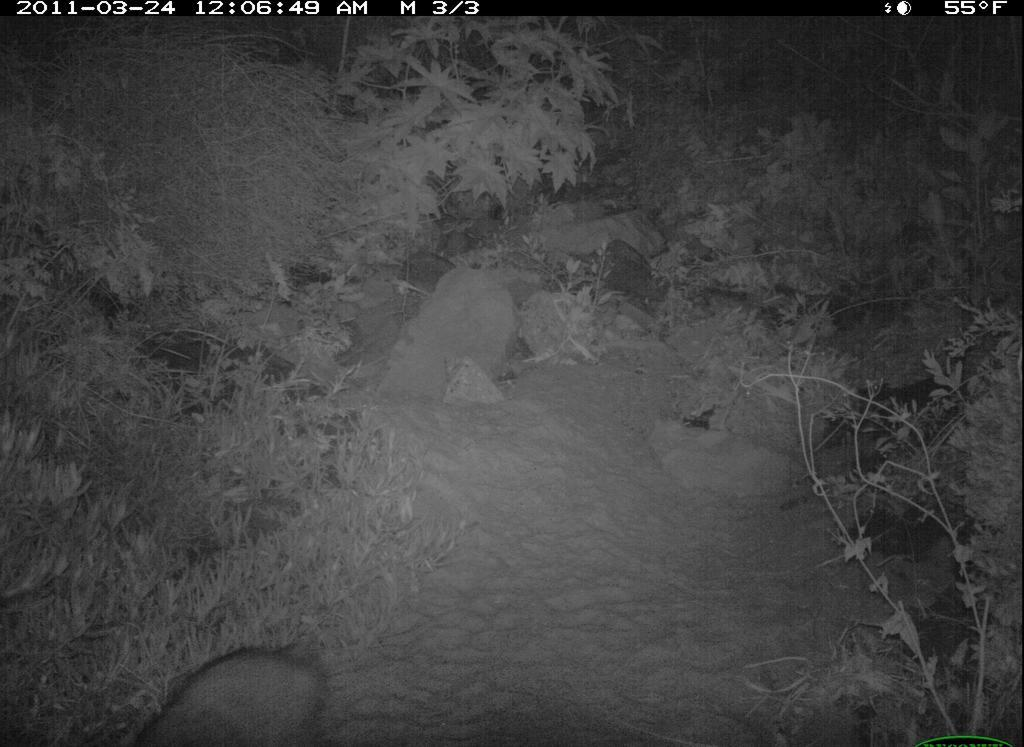raccoon: (114, 630, 356, 747)
